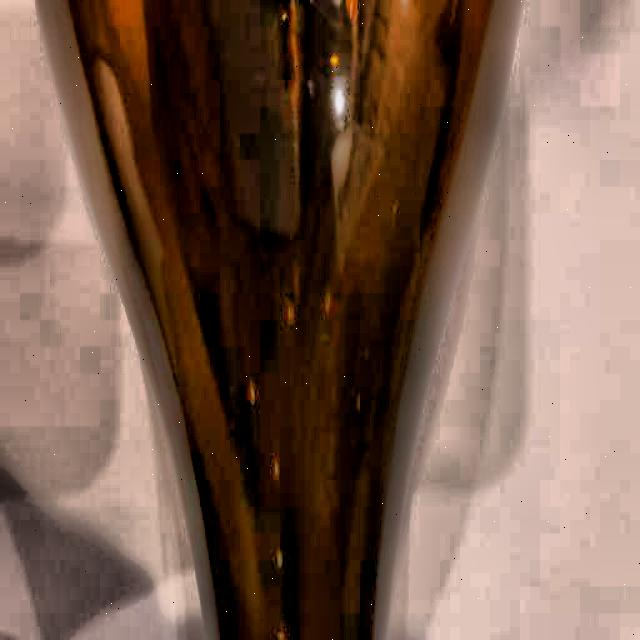glass: (26, 0, 497, 640)
